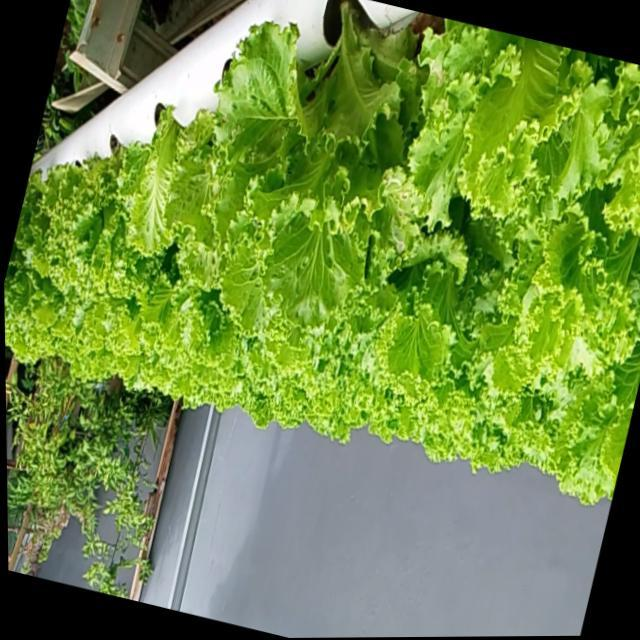Mature: (172, 0, 436, 330), (34, 142, 161, 306)
